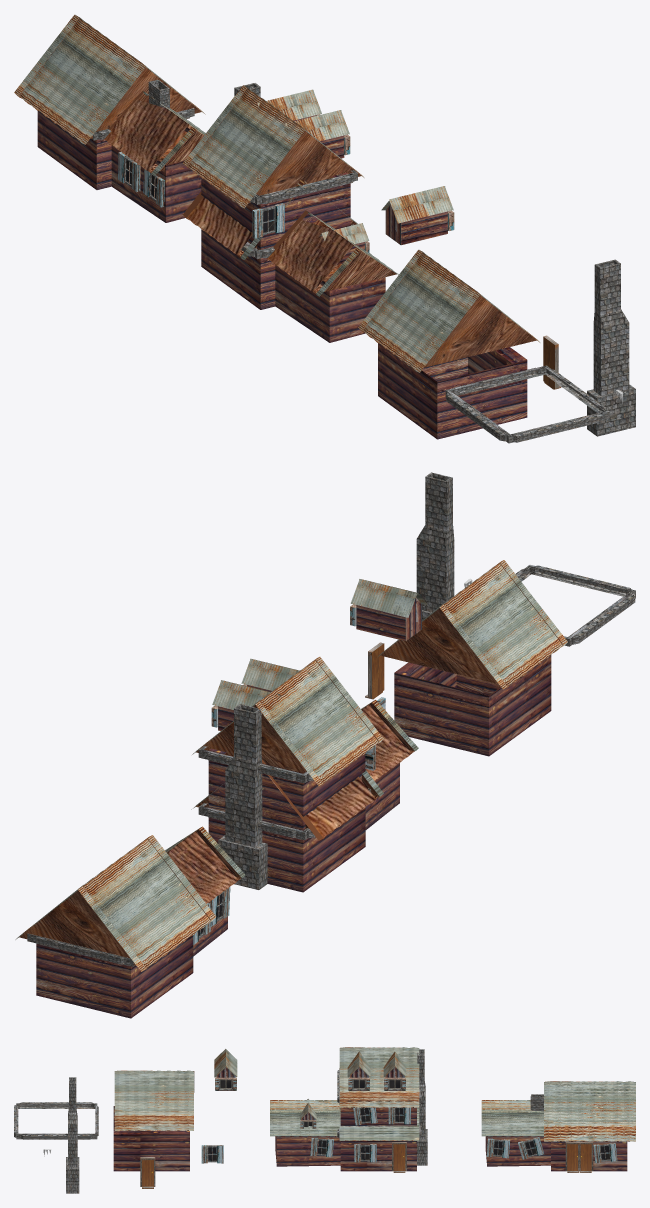
File: housepeices.fbx
The picture shows the model from 3 angles, top to bottom: view 1: azimuth 30°, elevation 25°; view 2: azimuth 150°, elevation 25°; view 3: azimuth 270°, elevation 25°; orthographic projection. The views are drawn at different scales.
Visible parts, largest first — view 1: Roof.006, Roof.002, Roof.004, housebase.003, Chimney.002, Roof.003, Housebase, Roof.005, housebase, Stonefringe.003, housebase.001, Corbal.003 (+10 smaller); view 2: Roof.004, Roof.006, housebase.003, Roof.002, housebase.002, Chimney, housebase.001, Chimney.002, housebase, Corbal.003, Roof.005, Roof.001 (+9 smaller); view 3: Roof.004, Roof.006, Roof.002, housebase.003, Roof.003, Roof.005, Housebase, housebase.001, Roof.001, Stonefringe.003, Chimney.002, Housebase.001 (+20 smaller).
Part boxes in pixels (x1,y1,x2,y2): Roof.006: [358, 249, 540, 372]; Roof.002: [183, 85, 364, 208]; Roof.004: [14, 14, 205, 144]; housebase.003: [378, 343, 527, 439]; Chimney.002: [587, 259, 635, 436]; Roof.003: [266, 210, 398, 296]; Housebase: [275, 265, 385, 342]; Roof.005: [104, 91, 205, 175]; housebase: [201, 172, 350, 249]; Stonefringe.003: [445, 365, 609, 443]; housebase.001: [201, 229, 275, 309]; Corbal.003: [381, 186, 454, 245]; Roof.004: [15, 835, 215, 971]; Roof.006: [377, 560, 567, 689]; housebase.003: [394, 655, 551, 756]; Roof.002: [192, 657, 383, 786]; housebase.002: [36, 935, 193, 1018]; Chimney: [218, 704, 267, 889]; housebase.001: [208, 807, 365, 892]; Chimney.002: [416, 472, 454, 620]; housebase: [208, 748, 365, 830]; Corbal.003: [350, 579, 427, 641]; Roof.005: [165, 826, 245, 903]; Roof.001: [191, 759, 383, 840]; Roof.004: [544, 1081, 635, 1141]; Roof.006: [114, 1070, 194, 1130]; Roof.002: [339, 1047, 419, 1107]; housebase.003: [113, 1106, 189, 1171]; Roof.003: [270, 1100, 339, 1136]; Roof.005: [481, 1100, 543, 1136]; Housebase: [275, 1136, 340, 1166]; housebase.001: [340, 1141, 416, 1171]; Roof.001: [339, 1107, 419, 1140]; Stonefringe.003: [14, 1102, 98, 1139]; Chimney.002: [66, 1077, 79, 1193]; Housebase.001: [485, 1136, 550, 1166].
Bounding box in the file's own units: 2719 × 2487 × 12799.
